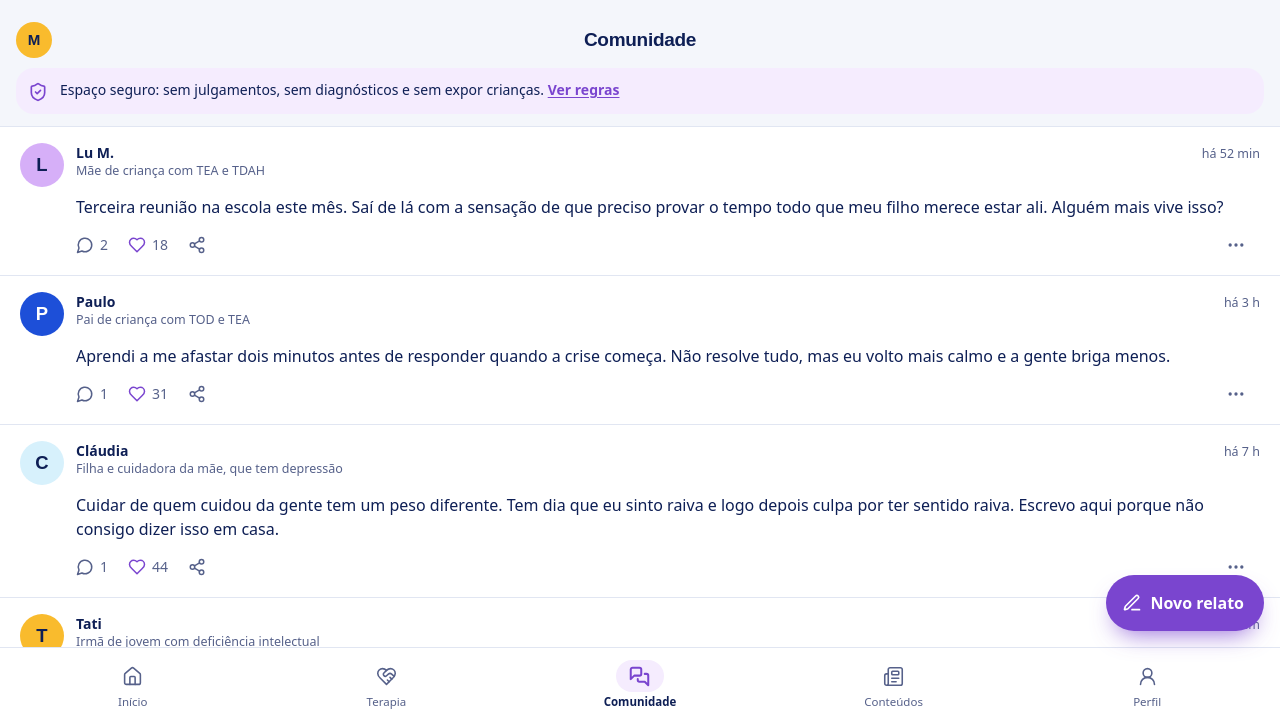
it: Comunidade › abre a conversa e responde
Click the button "Terceira reunião na escola este mês. Saí de lá com a sensação de que preciso provar o tempo todo que meu filho merece es" at (640, 207), box 20,195 -> 1260,219
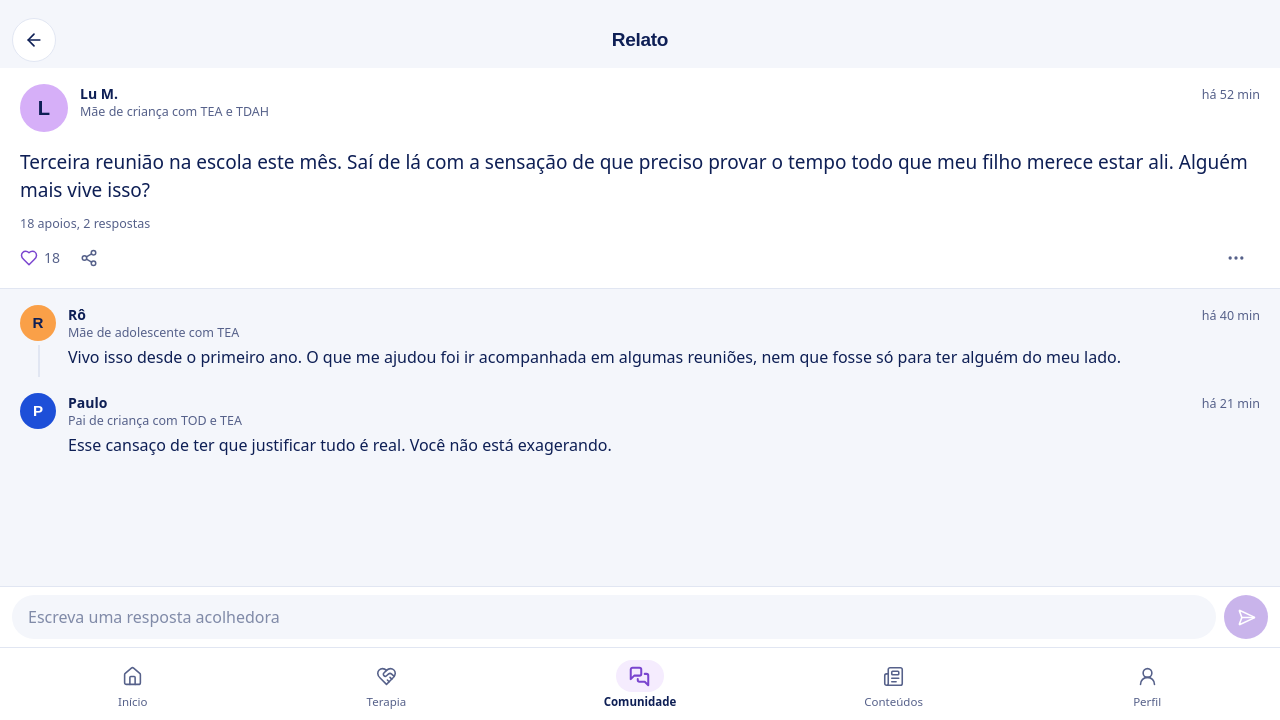
Expected: the heading "Relato" is shown, 612,29 -> 668,50
Expected: the text "Vivo isso desde o primeiro ano. O que me ajudou foi ir acompanhada em algumas reuniões, nem que fosse só para ter alguém" is shown, 68,346 -> 1121,368
Type "Estou com você." into the text box named "Sua resposta" at (614, 617), box 12,595 -> 1216,639
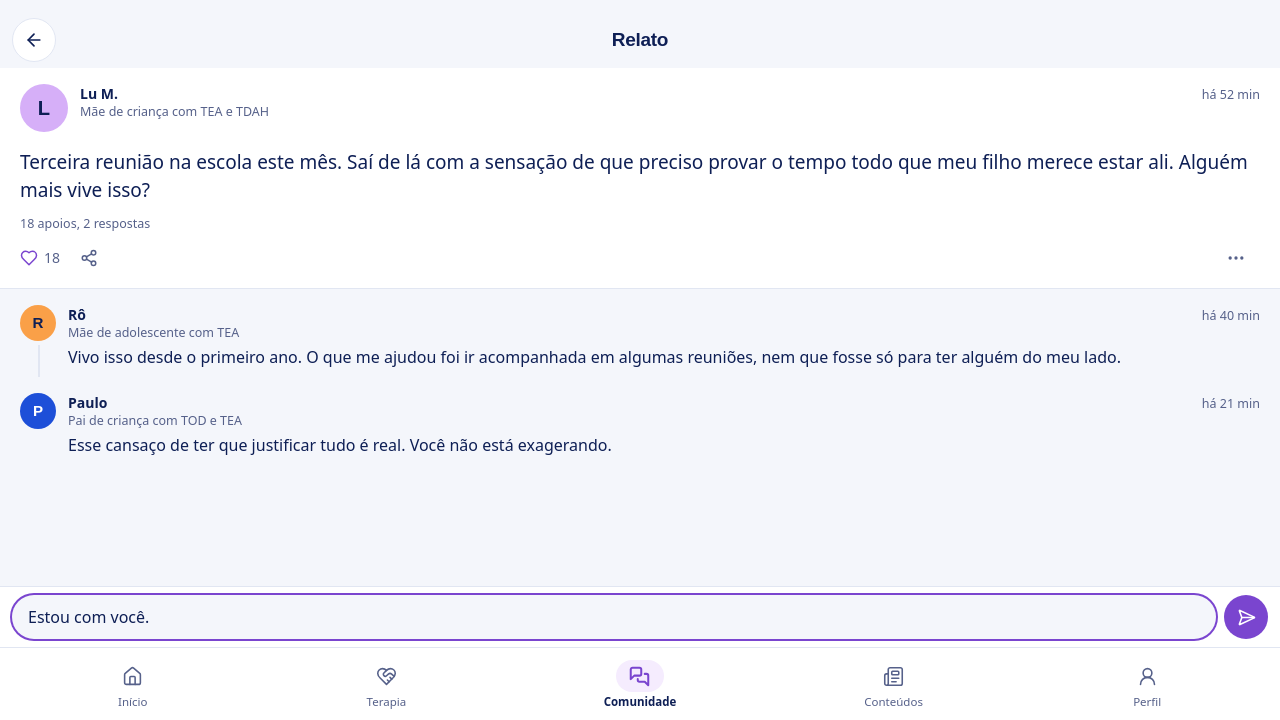
Click the button named "Enviar resposta" at (1246, 617), box 1224,595 -> 1268,639
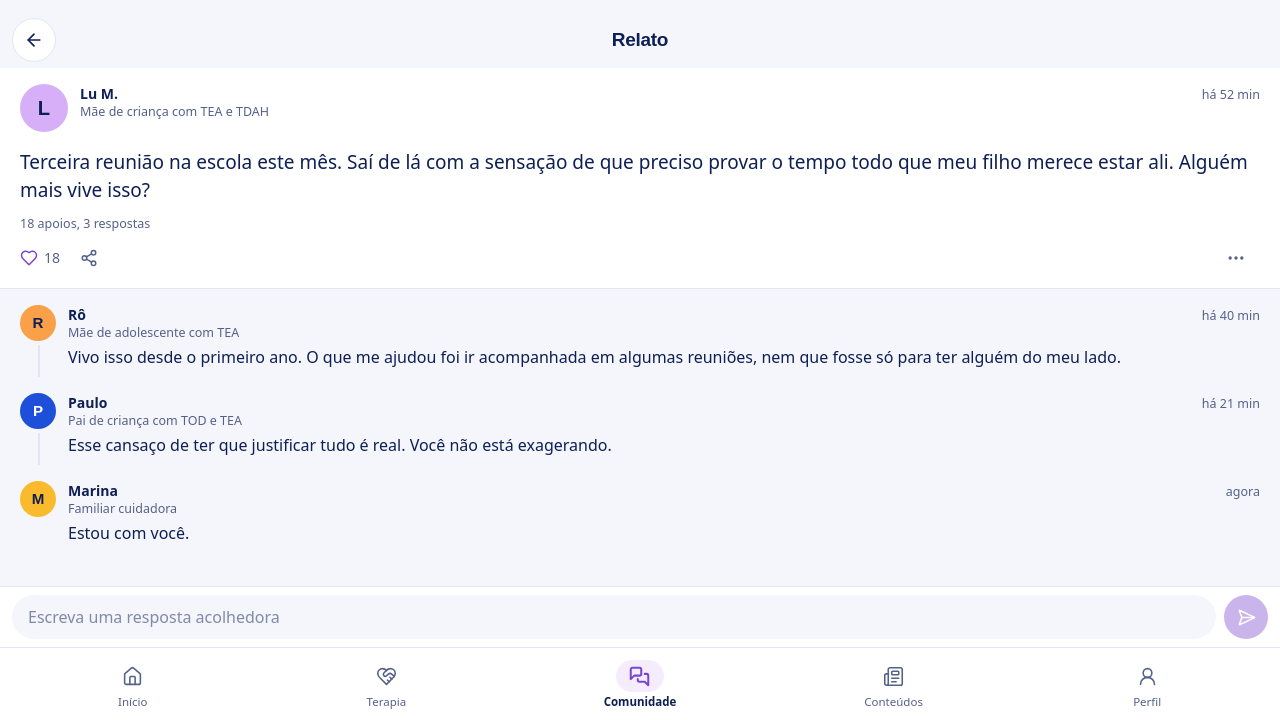
Expected: the text "Estou com você." is shown, 68,522 -> 189,544
